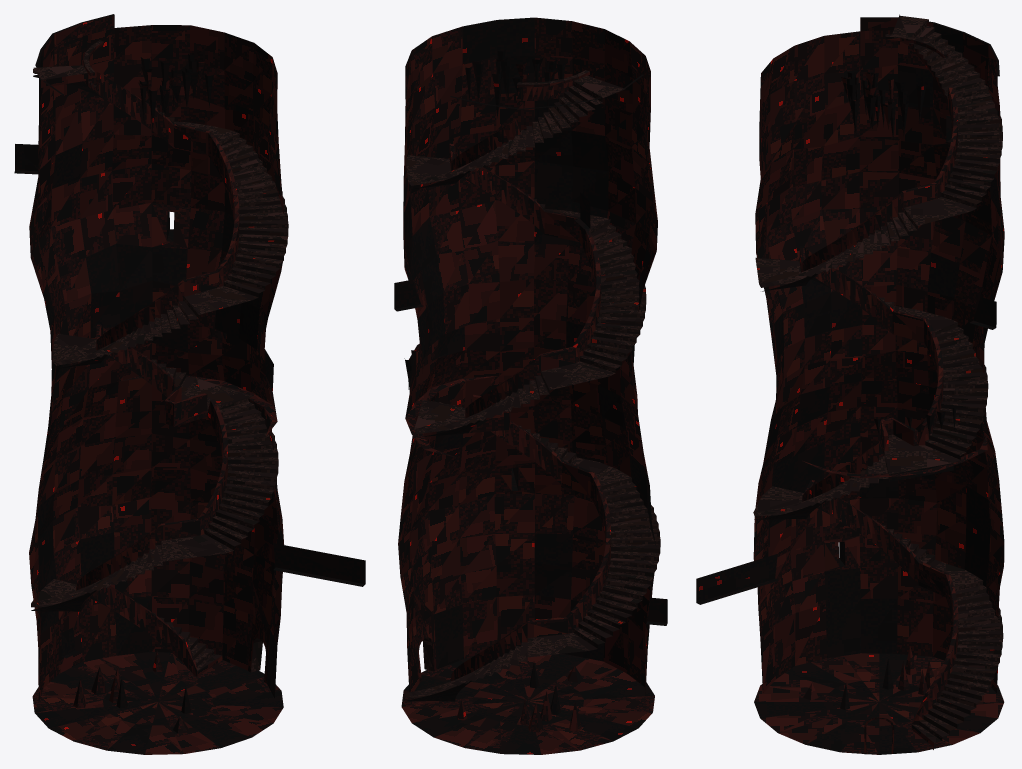
Rendered from tower_interior.glb.
3 views of the same model, side by side, from view 1: azimuth 30°, elevation 25°; view 2: azimuth 150°, elevation 25°; view 3: azimuth 270°, elevation 25° (orthographic).
Visible parts, largest first — view 1: TowerInterior; view 2: TowerInterior; view 3: TowerInterior.
Boxes of the visible parts, x1=… form: TowerInterior: x1=14, y1=14, x2=365, y2=754; TowerInterior: x1=394, y1=17, x2=667, y2=754; TowerInterior: x1=696, y1=14, x2=1004, y2=754.
Size of what is drawn, in the model's own units: 14.59 by 38.43 by 16.96.
1 material, 1 textured.
